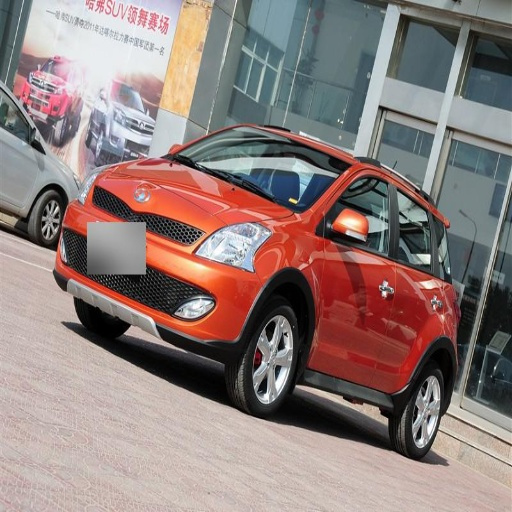back_bumper: (60, 218, 169, 311)
front_bumper: (157, 304, 250, 351)
front_glass: (171, 131, 341, 211)
front_left_door: (323, 168, 395, 356)
front_left_light: (211, 224, 262, 265)
trunk: (404, 278, 457, 381)
